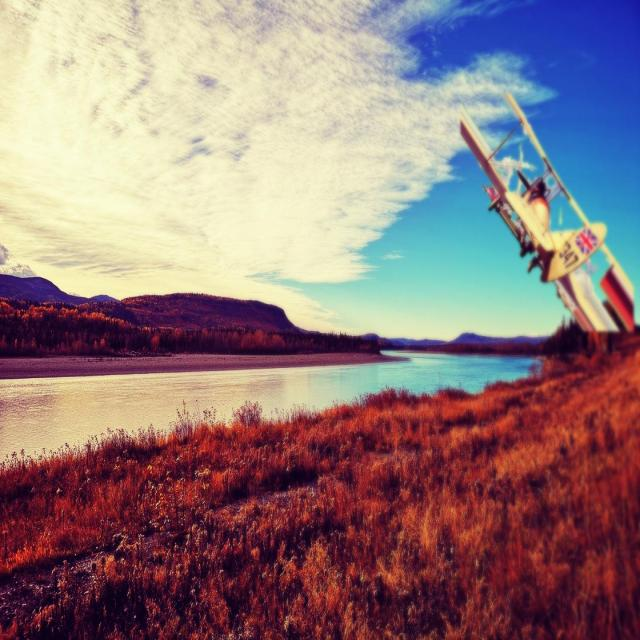airplane: (459, 91, 635, 338)
